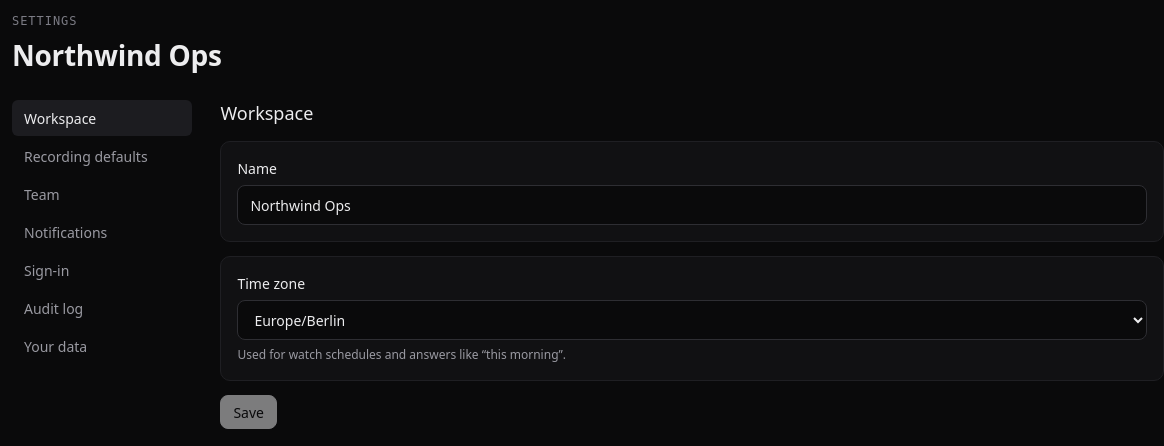
Test case: SettingsPage › saves the workspace name and time zone
This screenshot has width=1164, height=446.
Check: the heading "Northwind Ops" is shown, box [12,36,222,74]
Replace the text in the field labelled "Name" with "Northwind": (692, 205) [237,185,1147,225]
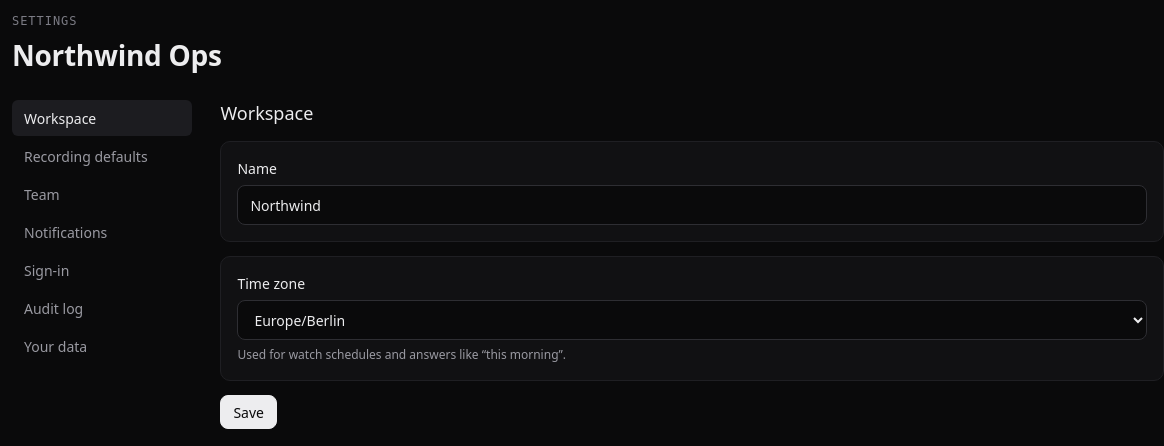
Select "UTC" in the dropdown labelled "Time zone": (692, 320) [237,300,1147,340]
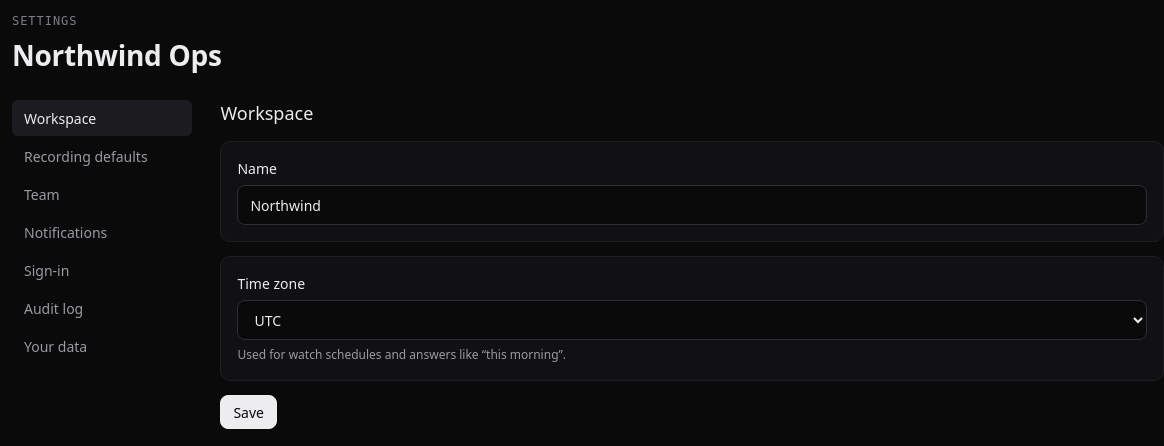
Click the button "Save": (249, 412) [220,395,277,429]
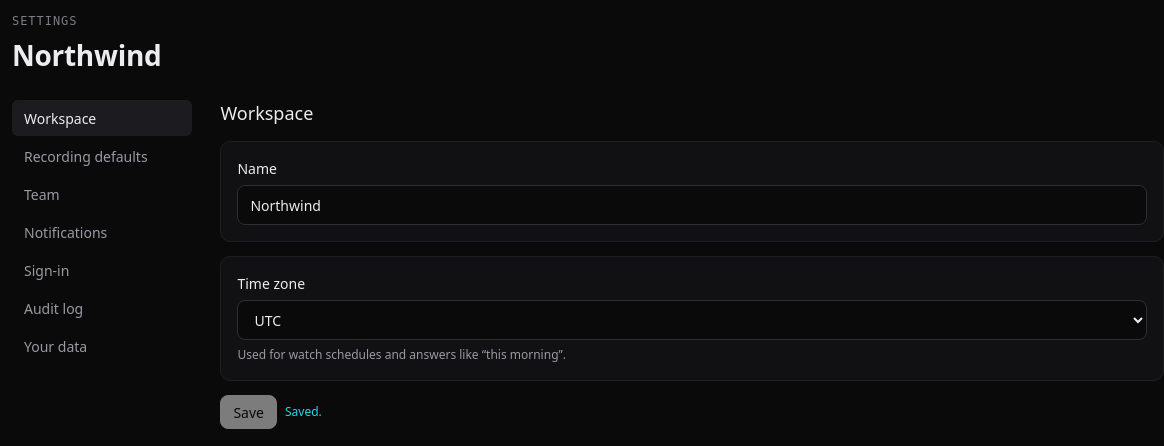
Check: the text "Saved." is shown, box [285,403,322,421]
